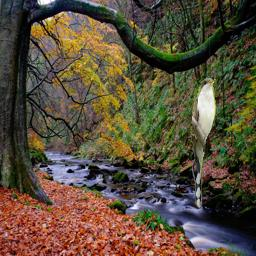Cuckoo: (192, 78, 216, 208)
